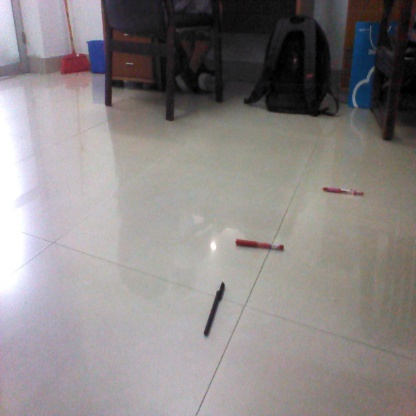pen: (203, 281, 228, 336), (234, 236, 286, 253), (322, 184, 366, 200)
